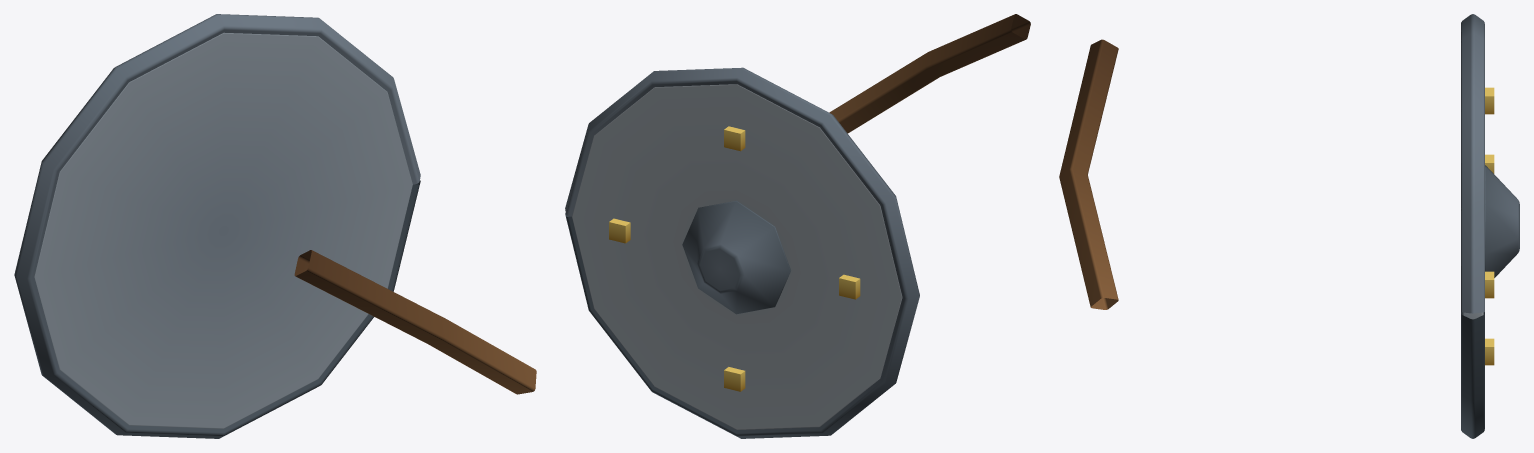
Rendered from steel_shield.glb.
3 views of the same model, side by side, from view 1: azimuth 30°, elevation 25°; view 2: azimuth 150°, elevation 25°; view 3: azimuth 270°, elevation 25° (orthographic). The views are drawn at different scales.
Parts seen in each view (by area): view 1: steel_shield; view 2: steel_shield, steel_shield_trim; view 3: steel_shield, steel_shield_trim.
Boxes of the visible parts, <box> form: steel_shield: <box>14,14,536,438</box>; steel_shield: <box>565,14,1030,438</box>; steel_shield_trim: <box>609,126,860,391</box>; steel_shield: <box>1059,14,1519,438</box>; steel_shield_trim: <box>1485,87,1494,365</box>.
Bounding box in the file's own units: 1.91 × 1.91 × 2.06.
